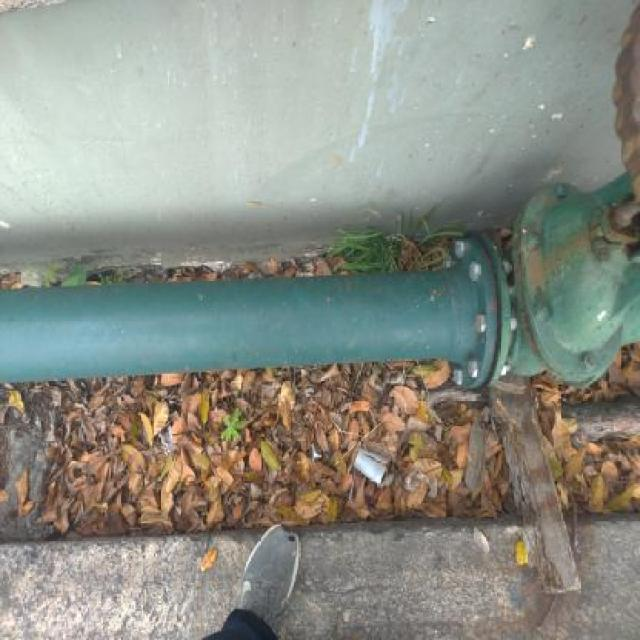gas: (6, 262, 629, 377)
